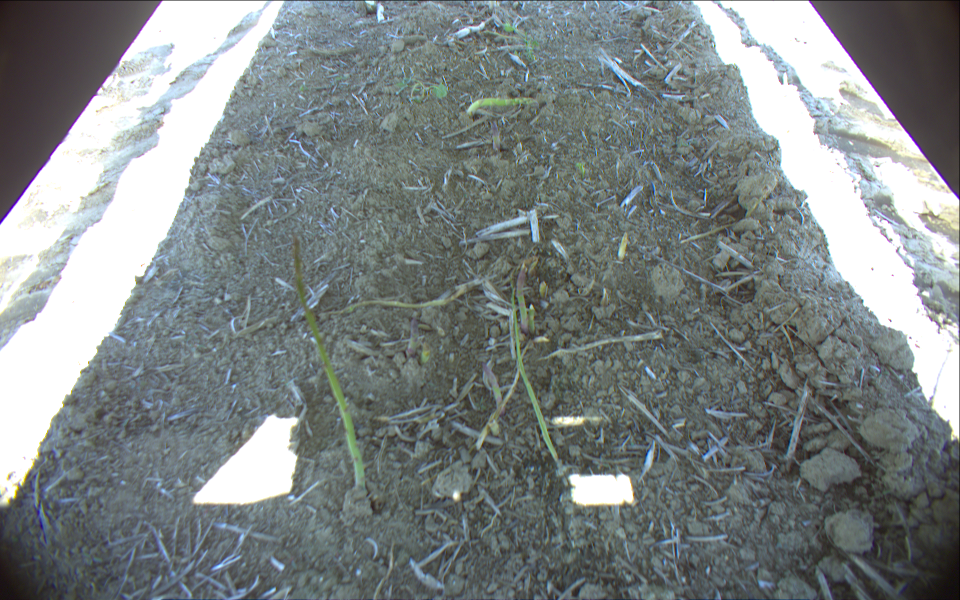aspa: (283, 232, 369, 490), (464, 93, 536, 123)
